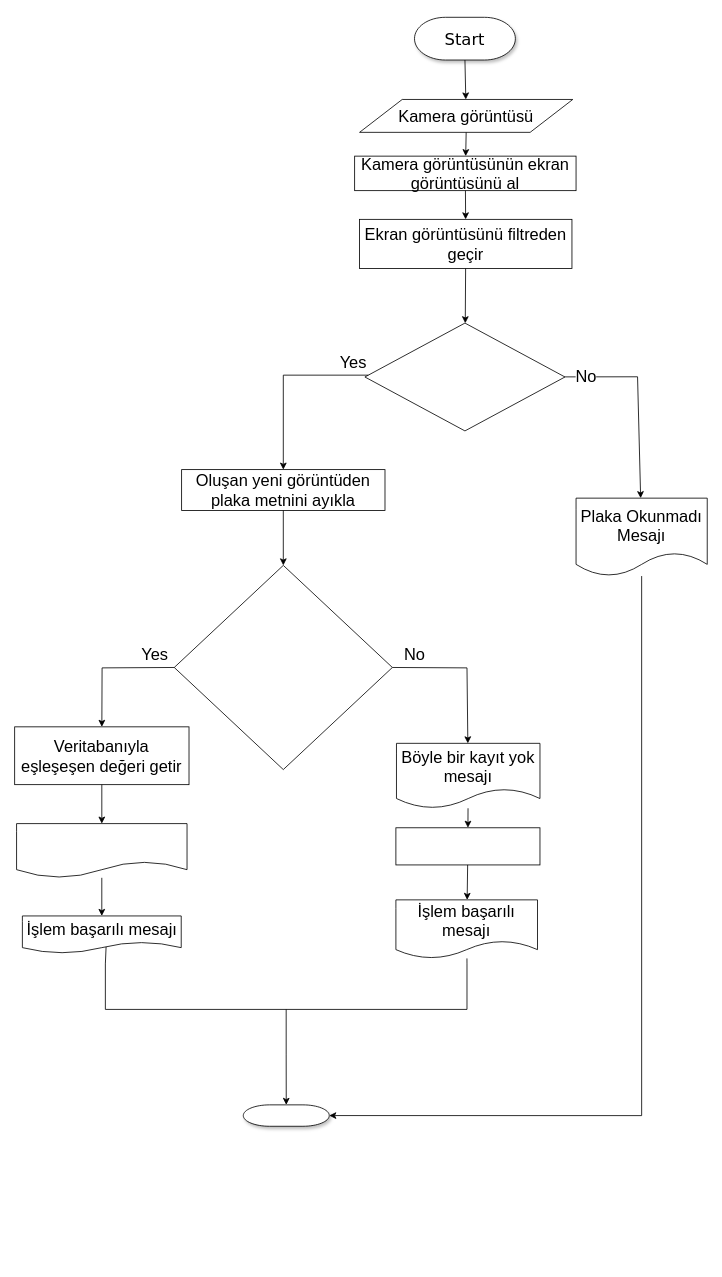
Some shapes in this 722 by 1277 pixel diagram are drawn without their labels. Each missing label, with the centre of its shape:
"End" goes at point (286, 1116).
"Eşleşen plaka değeri" goes at point (101, 850).
"Plaka var mı?" goes at point (464, 376).
"Veritabanında daha önce böyle bir kayıt var mı?" goes at point (282, 667).
"Yeni plaka kaydı ekle" goes at point (467, 846).
